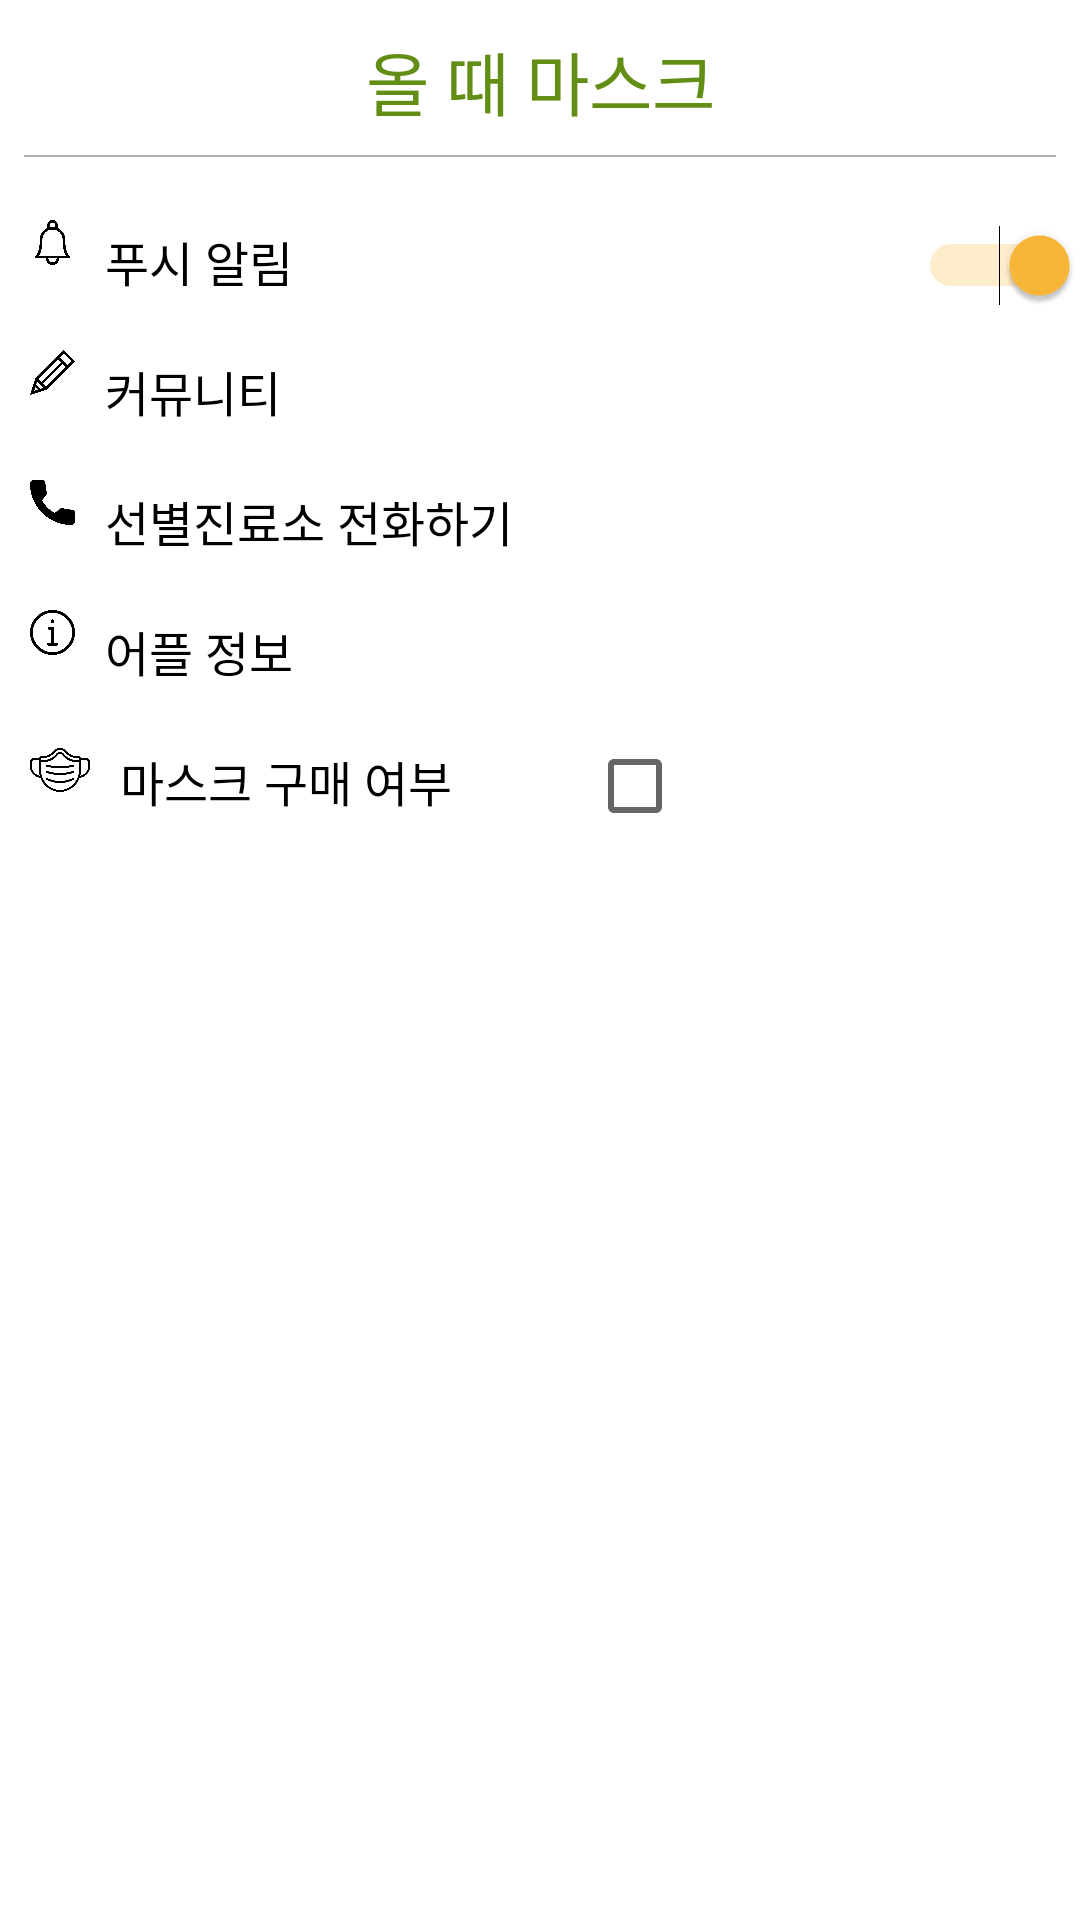

Icons on this 1080 × 1920 Android screen, each with its box as (x1, y1, x2, y2):
bell: (35, 220, 70, 265)
call: (30, 480, 75, 525)
info: (30, 610, 75, 655)
pencil: (30, 350, 75, 395)
